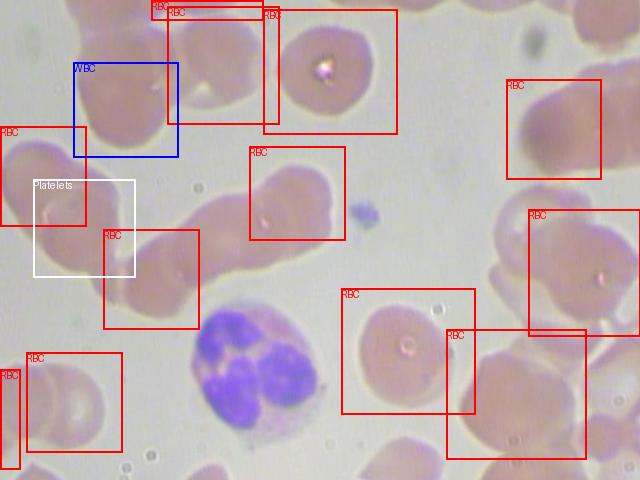Platelets: (33, 179, 135, 277)
RBC: (446, 329, 586, 459), (341, 288, 475, 414), (263, 9, 397, 134), (528, 209, 640, 336), (167, 6, 279, 124), (103, 229, 199, 329), (26, 352, 122, 452), (506, 79, 601, 179), (249, 146, 345, 240), (0, 126, 86, 226), (151, 0, 263, 20), (0, 369, 20, 469)
WBC: (73, 62, 178, 157)
